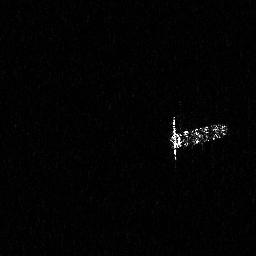ship: (166, 116, 229, 163)
